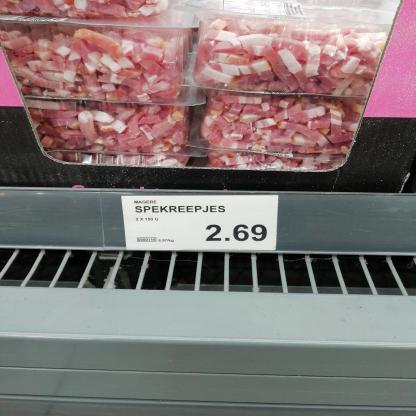prtg: (123, 197, 280, 253)
